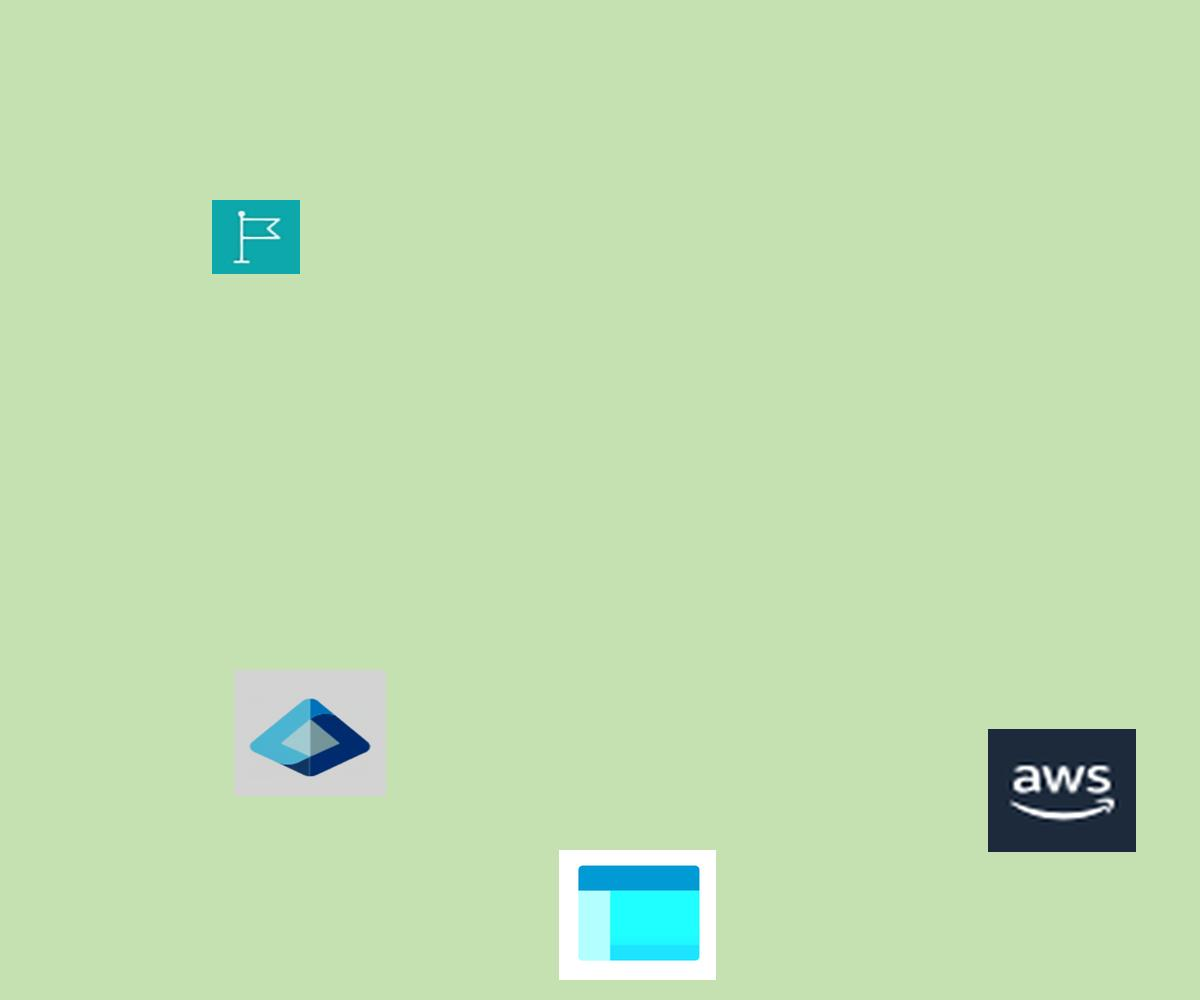AWS-Cloud-logo: (988, 729, 1136, 852)
AWS-Region: (212, 200, 300, 274)
Azure_management-portal: (559, 850, 716, 980)
Azure_microsoft_entra: (234, 670, 386, 796)
